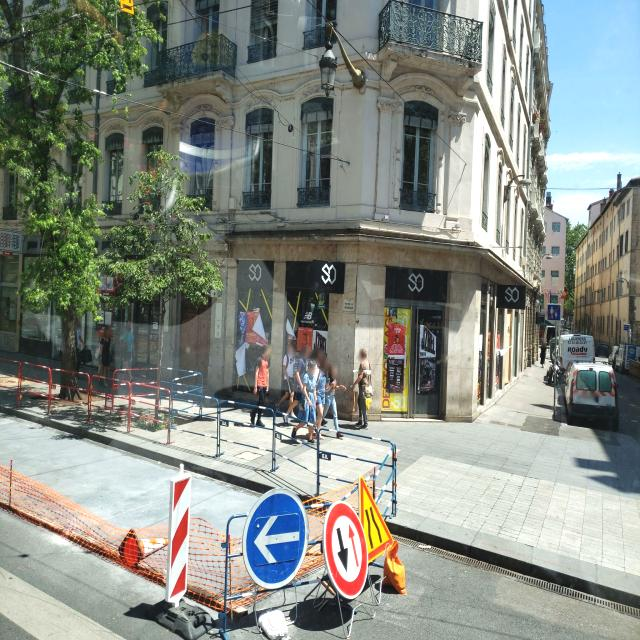car: (553, 354, 620, 430), (619, 343, 637, 374), (628, 345, 640, 380), (595, 341, 611, 360), (611, 344, 620, 369)
